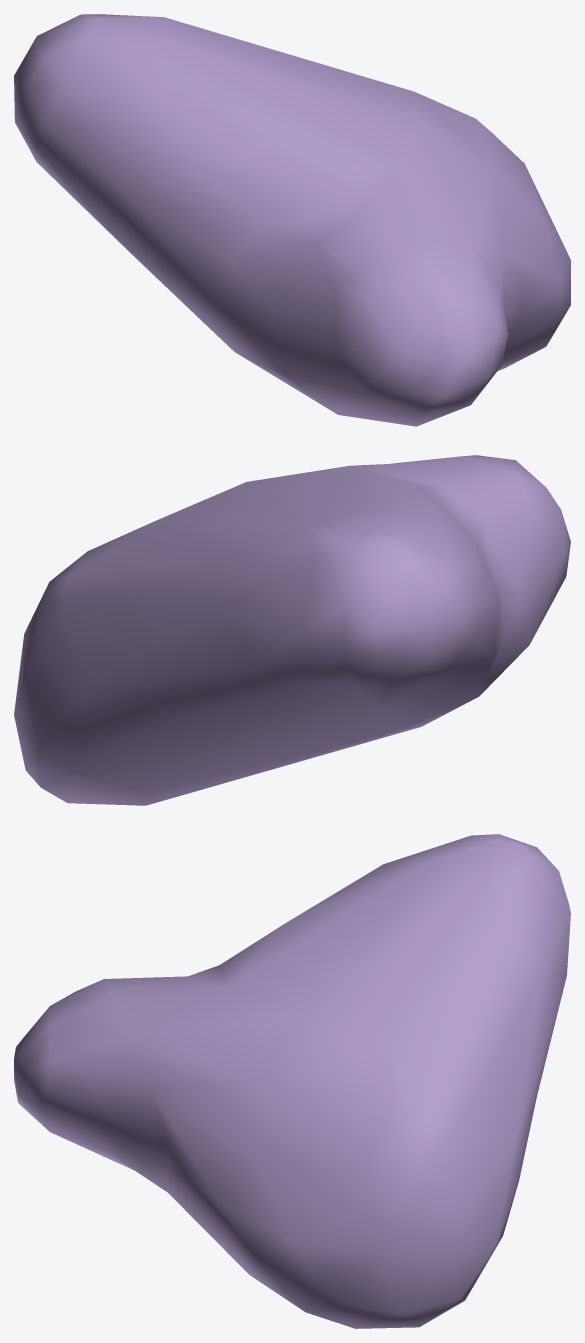
3 views of the same model, one above another, from view 1: azimuth 30°, elevation 25°; view 2: azimuth 150°, elevation 25°; view 3: azimuth 270°, elevation 25° (orthographic). The views are drawn at different scales.
Visible parts, largest first — view 1: 右侧泪小管壶腹; view 2: 右侧泪小管壶腹; view 3: 右侧泪小管壶腹.
Part boxes in pixels (box(x1,y1,x2,y2)): 右侧泪小管壶腹: box(14, 14, 570, 426); 右侧泪小管壶腹: box(14, 455, 570, 805); 右侧泪小管壶腹: box(14, 834, 570, 1328).
Bounding box in the file's own units: 0.00446 × 0.00339 × 0.00499.
